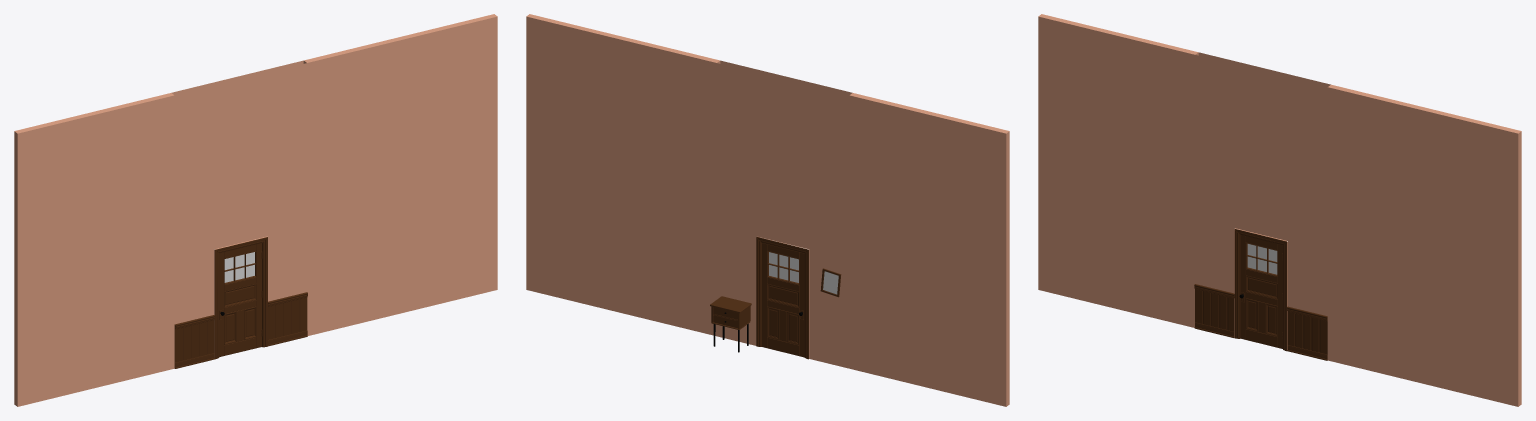
Rendered from kapıduvar.fbx.
The picture shows the model from 3 angles, left to right: view 1: azimuth 30°, elevation 25°; view 2: azimuth 150°, elevation 25°; view 3: azimuth 330°, elevation 25°; orthographic projection.
Visible parts, largest first — view 1: door, door.001; view 2: door, door.001; view 3: door, door.001.
Boxes of the visible parts, x1,y1,x2,y2 form: door: [14, 14, 497, 406]; door.001: [215, 237, 267, 359]; door: [526, 14, 1009, 406]; door.001: [756, 236, 808, 359]; door: [1038, 14, 1521, 406]; door.001: [1234, 229, 1287, 351].
Size of the model in its own units: 1068 by 581 by 64.71.
